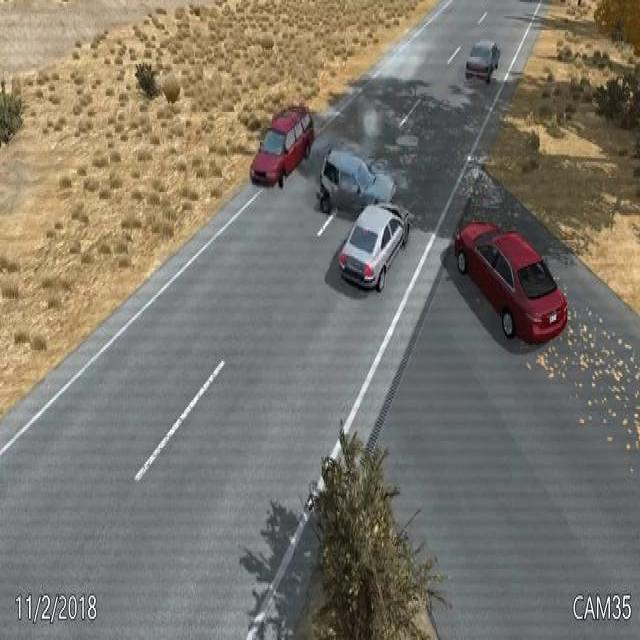moderate: (315, 142, 414, 297)
